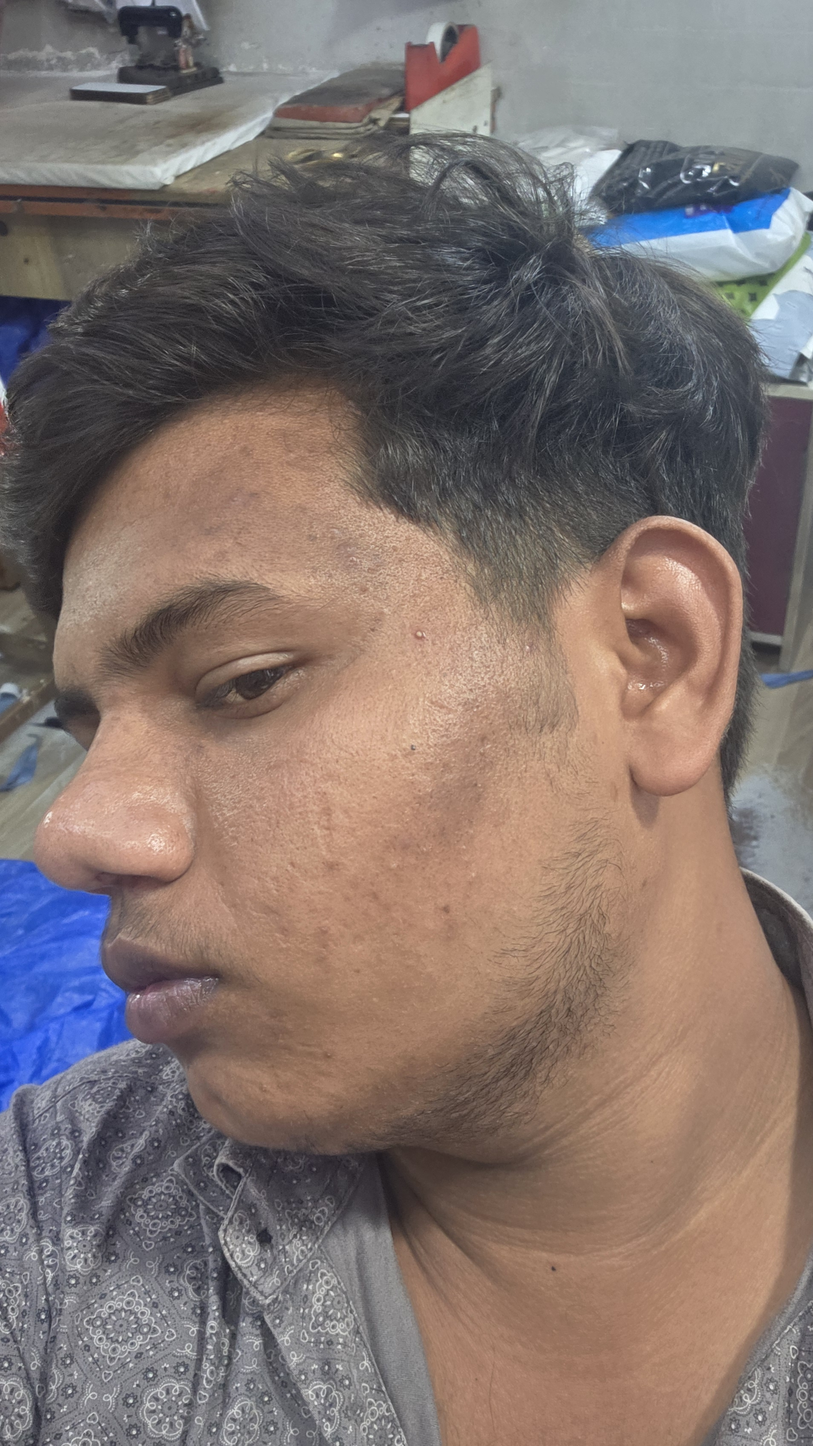closed_comedone: (384, 857, 408, 878)
pustule: (408, 624, 431, 643)
